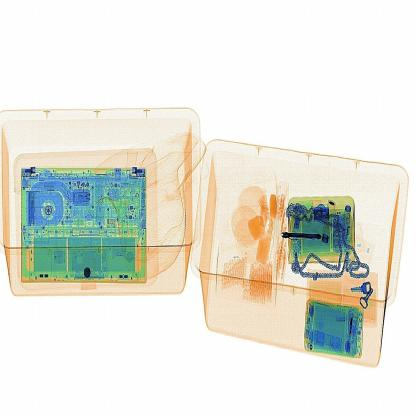knife: (276, 222, 330, 252)
